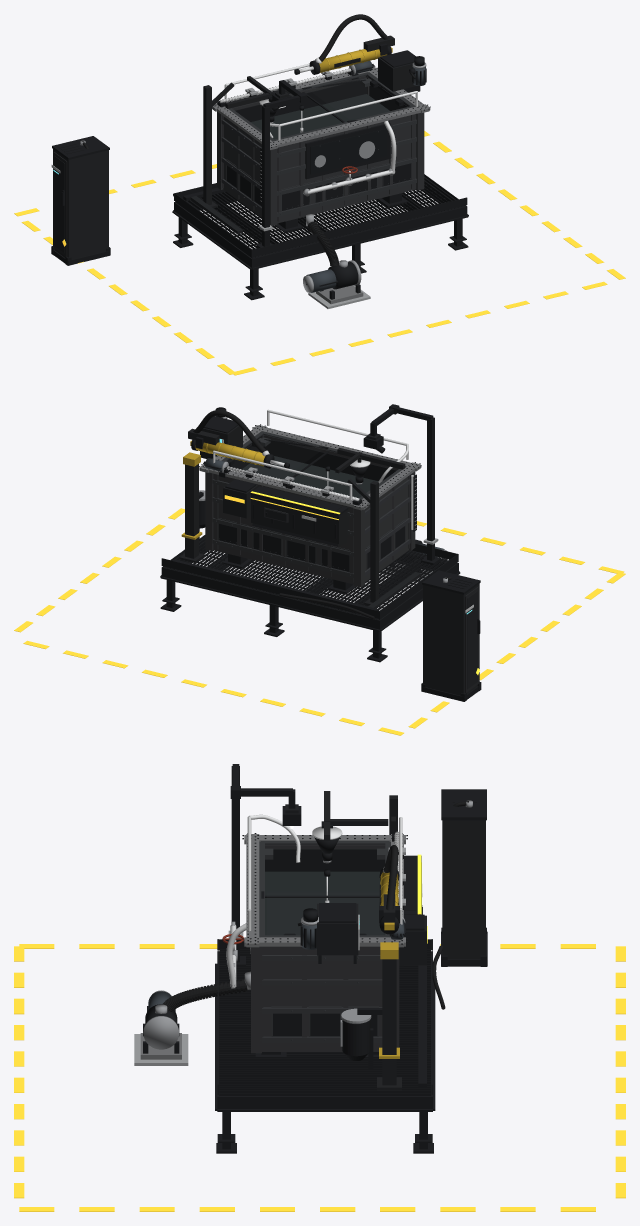
Rendered from flotation_cell.glb.
The picture shows the model from 3 angles, top to bottom: view 1: azimuth 30°, elevation 25°; view 2: azimuth 150°, elevation 25°; view 3: azimuth 270°, elevation 25°; orthographic projection. The views are drawn at different scales.
Parts seen in each view (by area): view 1: 槽体, 钢平台, 控制柜, 平台格栅, 地面安全标线, 观察窗, 槽内液面, 进料臂, 相机臂, 驱动箱, 泵底座, 气动缸 (+4 smaller); view 2: 槽体, 钢平台, 控制柜, 平台格栅, 溢流料箱, 地面安全标线, 气缸立柱, 进料臂, 槽内液面, 相机臂, 侧料箱, 线槽 (+4 smaller); view 3: 槽体, 平台格栅, 控制柜, 地面安全标线, 钢平台, 槽内液面, 气缸立柱, 驱动箱, 相机臂, 料斗, 泵底座, 侧料箱 (+6 smaller).
Part boxes in pixels (box(x1,y1,x2,y2)): 槽体: box(212, 65, 430, 225); 钢平台: box(172, 177, 468, 300); 控制柜: box(51, 136, 110, 265); 平台格栅: box(176, 174, 465, 258); 地面安全标线: box(14, 131, 625, 375); 观察窗: box(305, 123, 390, 179); 槽内液面: box(251, 94, 389, 139); 进料臂: box(203, 76, 290, 207); 相机臂: box(256, 80, 307, 247); 驱动箱: box(378, 50, 420, 96); 泵底座: box(308, 284, 370, 308); 气动缸: box(319, 49, 387, 72); 槽体: box(198, 424, 421, 587); 钢平台: box(160, 537, 460, 662); 控制柜: box(421, 570, 480, 701); 平台格栅: box(163, 535, 456, 619); 溢流料箱: box(250, 486, 348, 546); 地面安全标线: box(14, 508, 625, 735); 气缸立柱: box(179, 428, 219, 562); 进料臂: box(335, 447, 405, 605); 槽内液面: box(242, 456, 378, 498); 相机臂: box(370, 404, 440, 565); 侧料箱: box(223, 479, 257, 518); 线槽: box(173, 559, 420, 610); 槽体: box(242, 833, 407, 1053); 平台格栅: box(219, 949, 431, 1095); 控制柜: box(441, 789, 487, 966); 地面安全标线: box(14, 944, 625, 1211); 钢平台: box(215, 939, 435, 1153); 槽内液面: box(265, 871, 385, 935); 气缸立柱: box(377, 894, 401, 1090); 驱动箱: box(317, 903, 359, 963); 相机臂: box(226, 764, 295, 967); 料斗: box(340, 1008, 371, 1060); 泵底座: box(134, 1023, 188, 1065); 侧料箱: box(399, 914, 427, 965).
Size of what is drawn, in the model's own units: 6.28 by 2.9 by 5.9.
